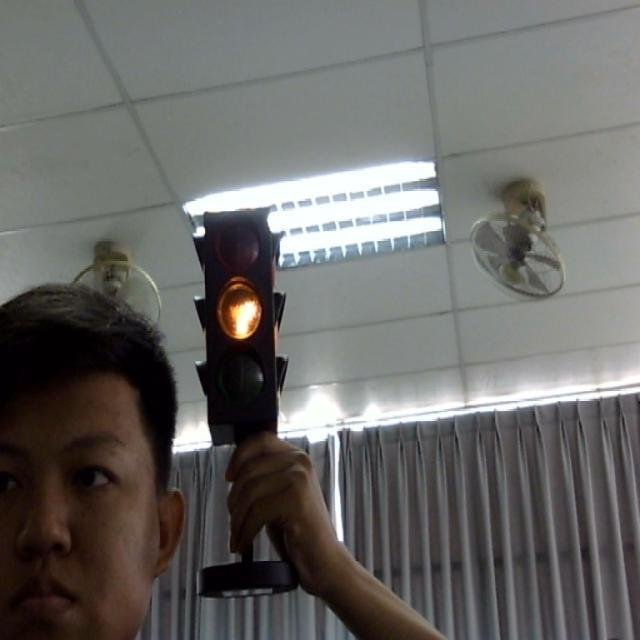yellow_light: (182, 204, 290, 440)
